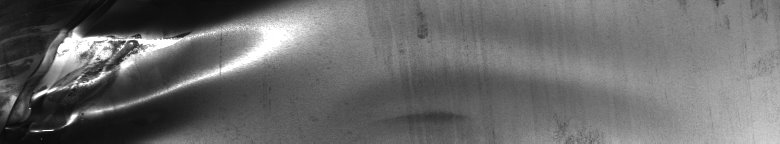ke: (4, 4, 261, 136)
